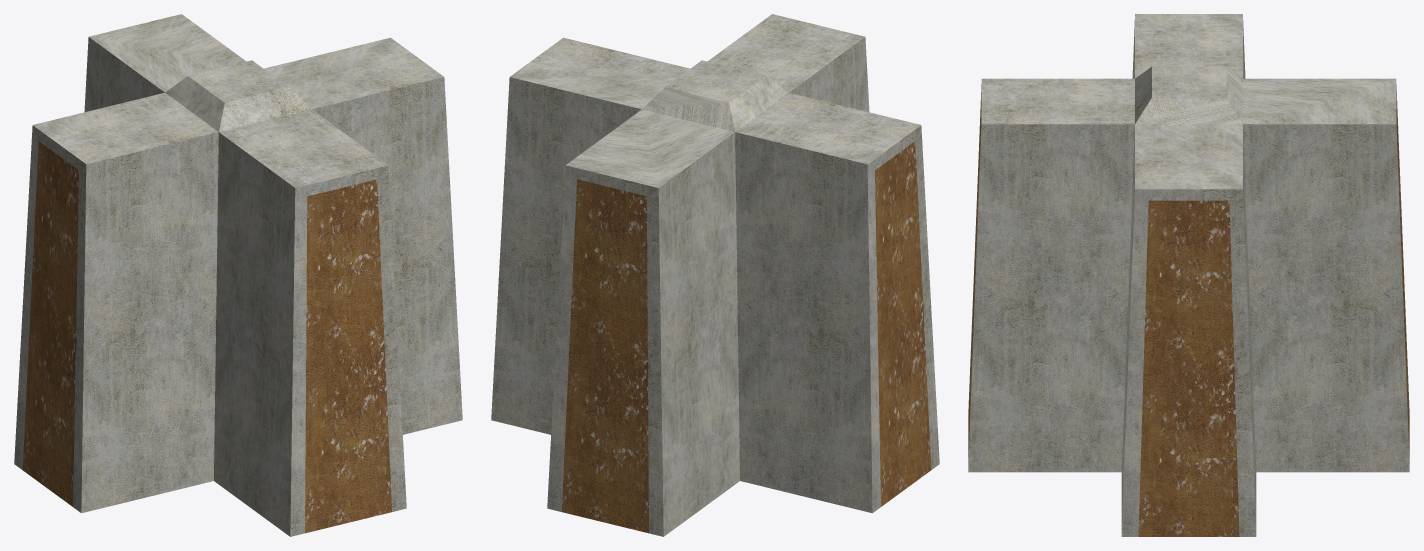
Rendered from mun_all_military_column_huge_rebl_s01_l1.fbx.
3 views of the same model, side by side, from view 1: azimuth 30°, elevation 25°; view 2: azimuth 150°, elevation 25°; view 3: azimuth 270°, elevation 25° (orthographic).
Parts seen in each view (by area): view 1: mesh_node; view 2: mesh_node; view 3: mesh_node.
Boxes of the visible parts, bbox=[...] form: mesh_node: bbox=[14, 14, 462, 536]; mesh_node: bbox=[491, 14, 939, 536]; mesh_node: bbox=[968, 14, 1409, 536].
Bounding box in the file's own units: 8.19 × 7.4 × 8.19.
